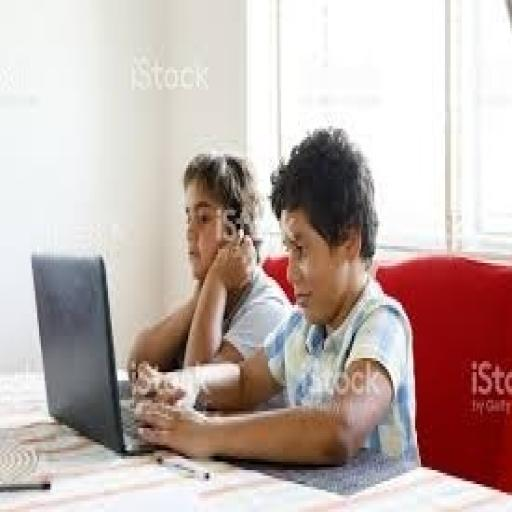using_laptop: (13, 223, 232, 472)
